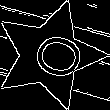O_W: (17, 27, 82, 83)
